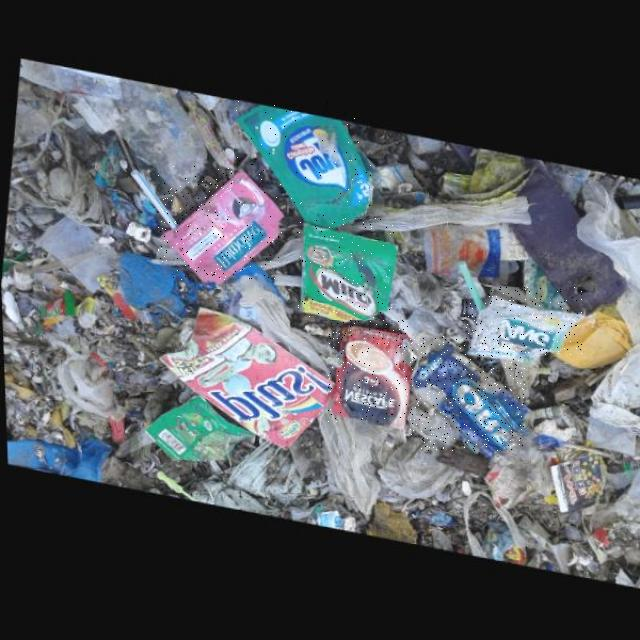wrapper: (156, 304, 332, 443), (235, 100, 371, 223), (158, 166, 282, 280), (410, 336, 525, 451), (298, 218, 395, 318), (329, 320, 408, 422), (464, 288, 582, 355), (142, 393, 249, 458)
